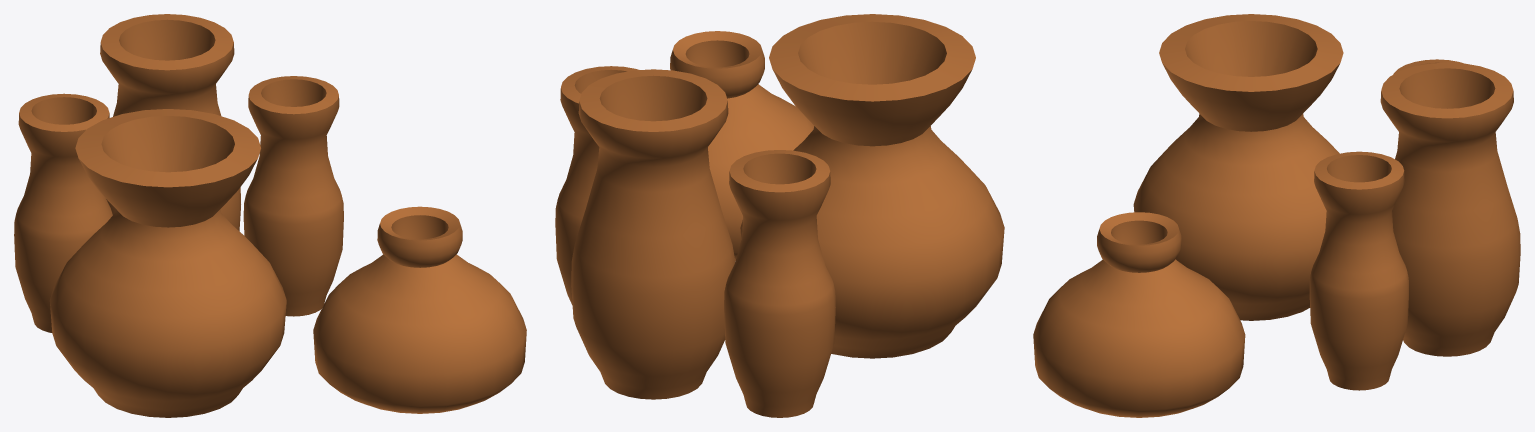
The model's file is pots.obj.
The picture shows the model from 3 angles, left to right: view 1: azimuth 30°, elevation 25°; view 2: azimuth 150°, elevation 25°; view 3: azimuth 270°, elevation 25°; orthographic projection. The views are drawn at different scales.
Parts seen in each view (by area): view 1: pots_Cylinder.020; view 2: pots_Cylinder.020; view 3: pots_Cylinder.020.
Boxes of the visible parts, x1,y1,x2,y2 form: pots_Cylinder.020: (14, 14, 526, 417); pots_Cylinder.020: (555, 14, 1004, 417); pots_Cylinder.020: (1033, 14, 1520, 417).
Size of the model in its own units: 1.6 by 0.9821 by 1.74.
